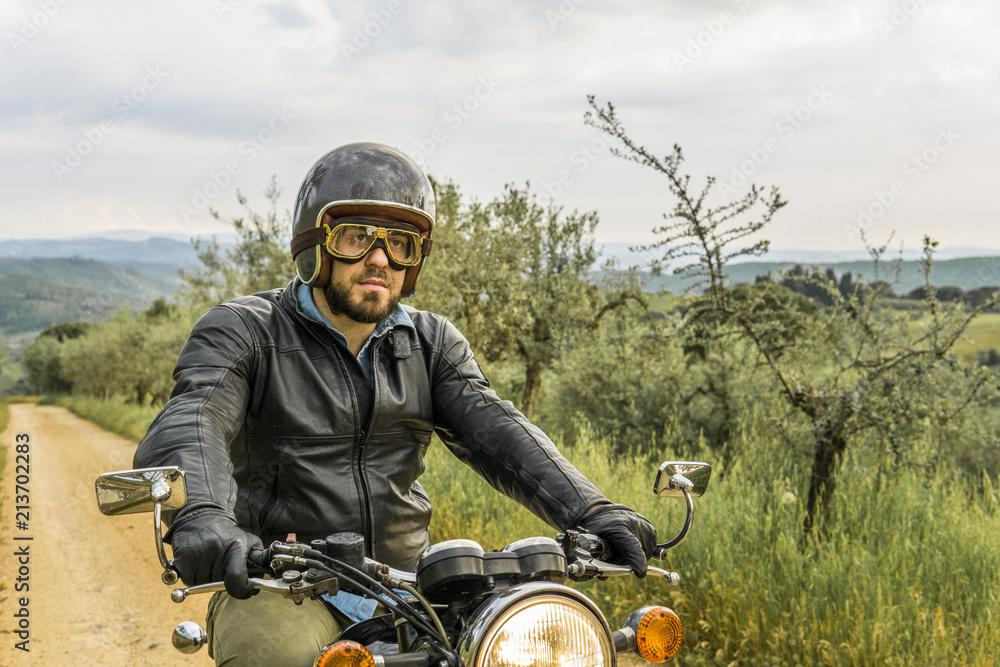helmet: (289, 140, 438, 325)
